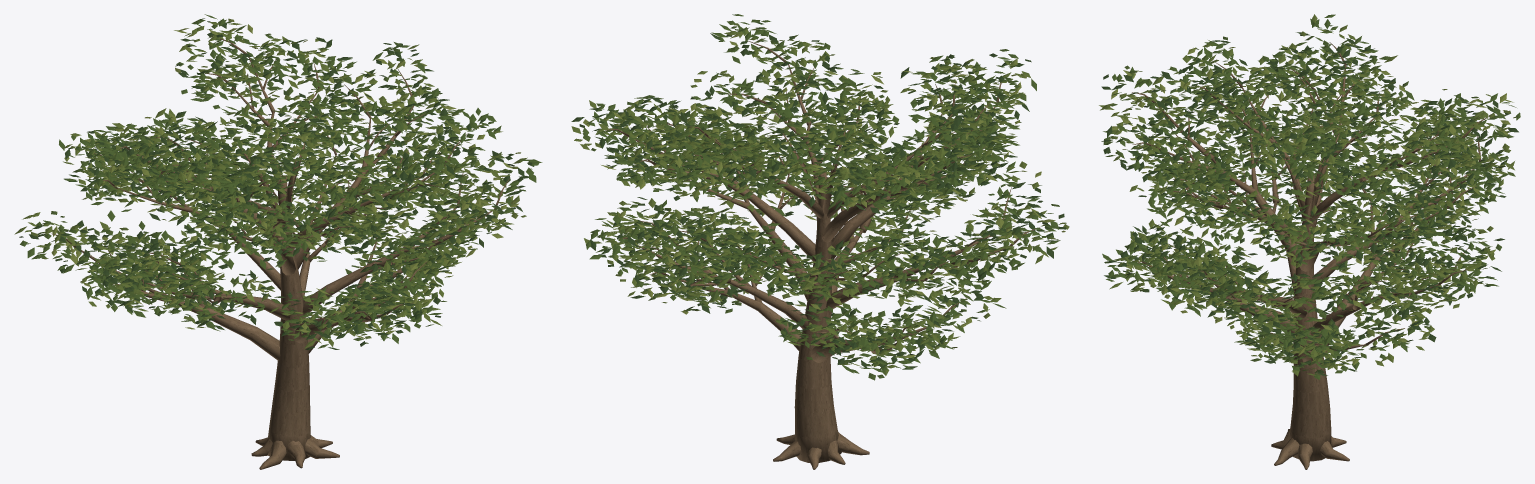
Rendered from broadleaf-tree.glb.
3 renders of one model, left to right at view 1: azimuth 30°, elevation 25°; view 2: azimuth 150°, elevation 25°; view 3: azimuth 270°, elevation 25°, orthographic. The views are drawn at different scales.
Parts seen in each view (by area): view 1: 树冠 · 立体阔叶, 树干与枝系 · 灰褐树皮; view 2: 树冠 · 立体阔叶, 树干与枝系 · 灰褐树皮; view 3: 树冠 · 立体阔叶, 树干与枝系 · 灰褐树皮.
Part boxes in pixels (left/top/right/bottom): 树冠 · 立体阔叶: left=14, top=14, right=542, bottom=349; 树干与枝系 · 灰褐树皮: left=51, top=35, right=510, bottom=469; 树冠 · 立体阔叶: left=571, top=14, right=1069, bottom=380; 树干与枝系 · 灰褐树皮: left=605, top=41, right=1039, bottom=469; 树冠 · 立体阔叶: left=1099, top=14, right=1520, bottom=379; 树干与枝系 · 灰褐树皮: left=1132, top=42, right=1491, bottom=469.
Bounding box in the file's own units: 9.93 × 8.16 × 8.57.
Materials: 5 (1 with a texture image).
